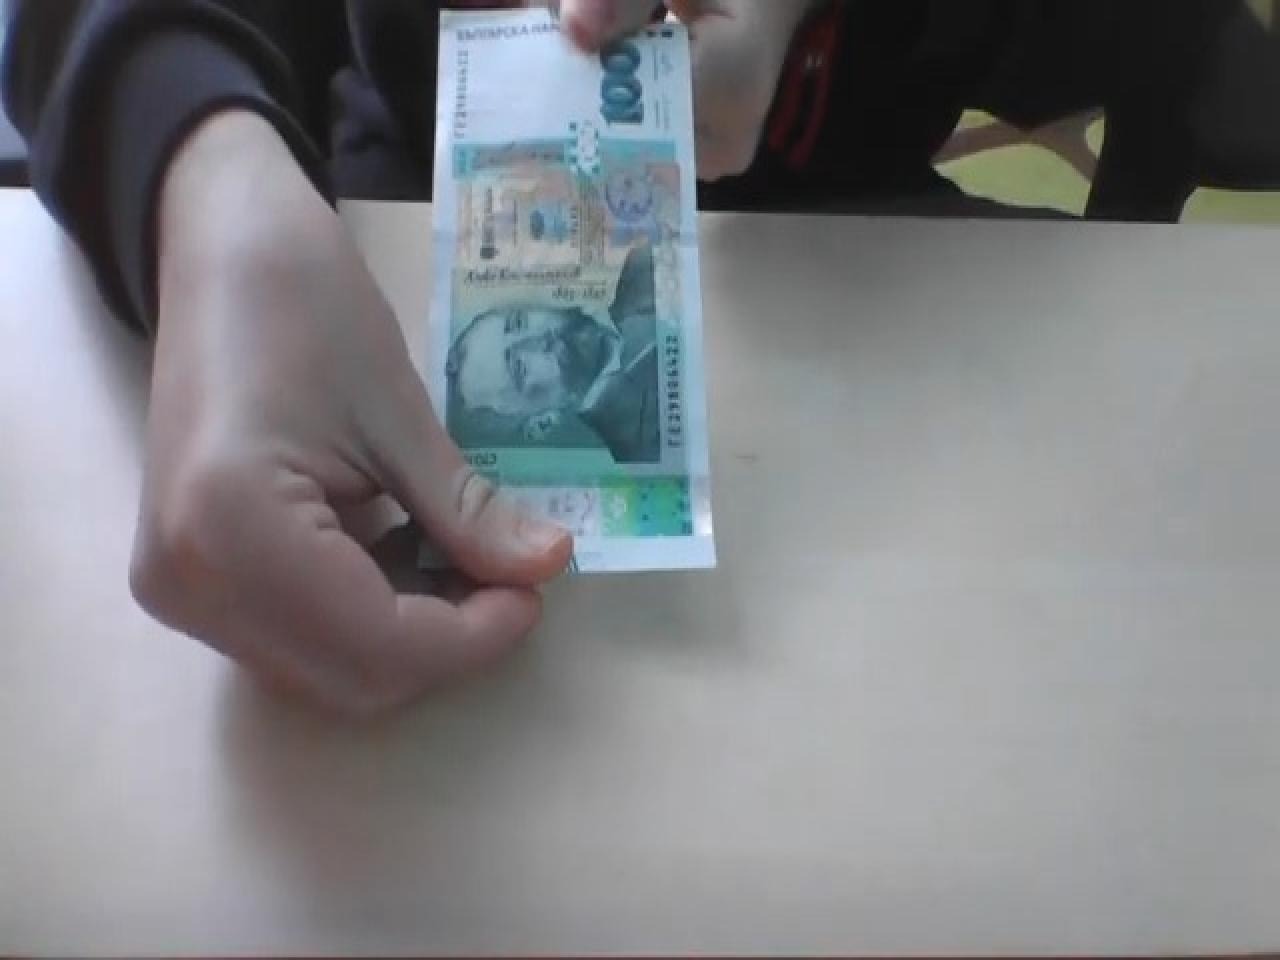100leva: (414, 5, 716, 582)
